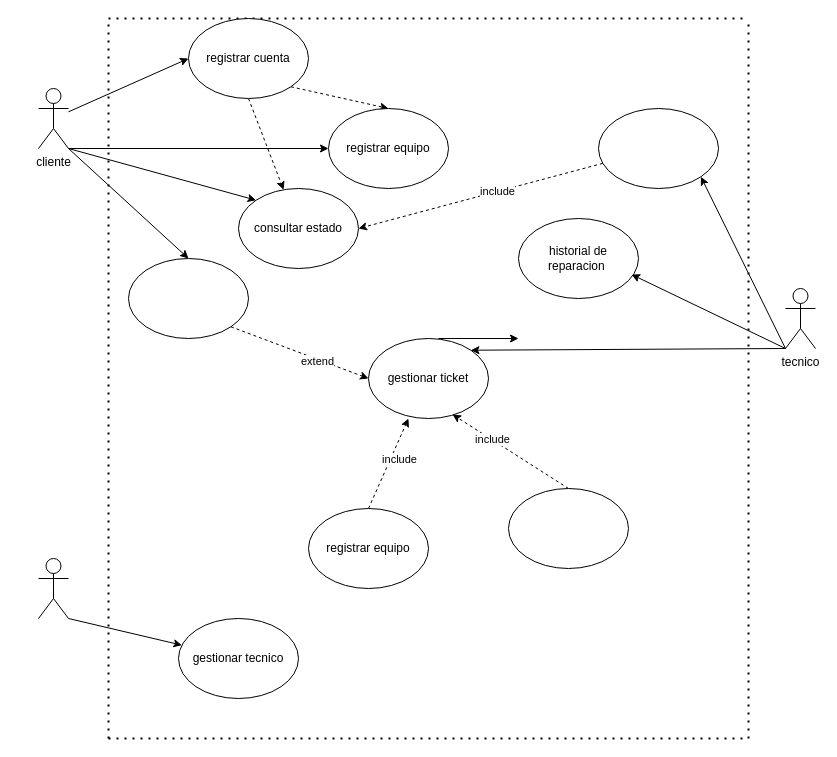
This 837x757 diagram has some shape labels left out. Here are the shapes that lost their labels. From the top down, the centre of each, then its label:
At pixel 658 148: "generar reporte".
At pixel 188 298: "ticket".
At pixel 568 528: "definir estado".
At pixel 53 588: "administrador".
